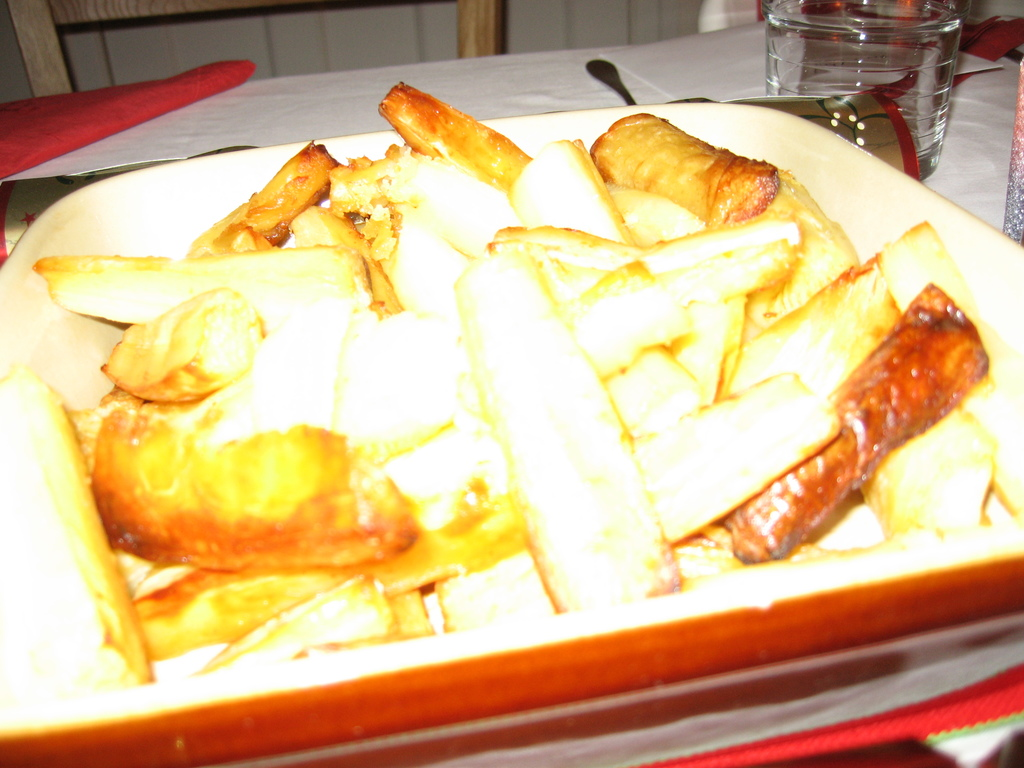French fries: (13, 74, 1023, 687)
